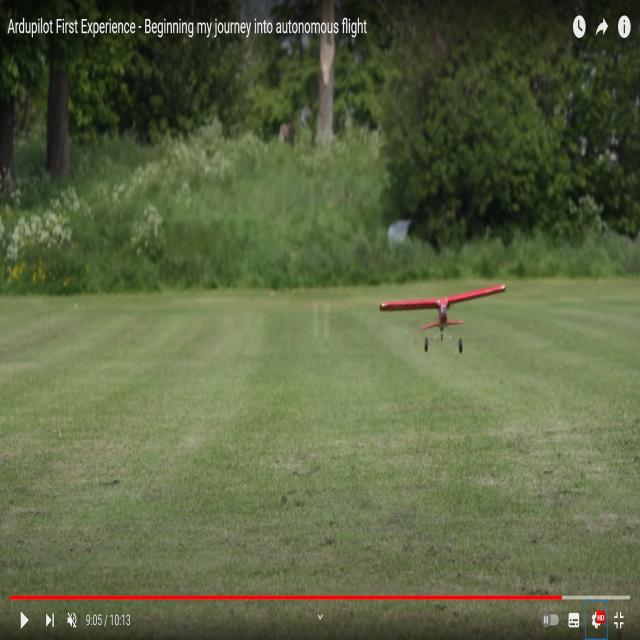iha: (376, 309, 506, 315)
